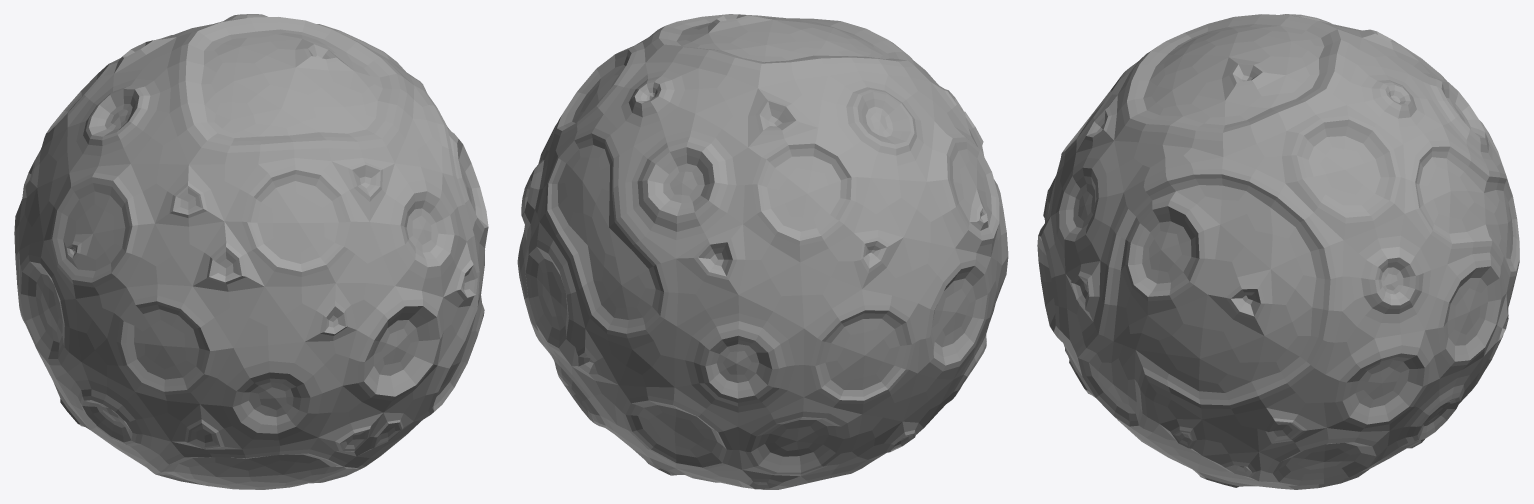
3 renders of one model, left to right at view 1: azimuth 30°, elevation 25°; view 2: azimuth 150°, elevation 25°; view 3: azimuth 270°, elevation 25°, orthographic.
Parts seen in each view (by area): view 1: 1226 Moon; view 2: 1226 Moon; view 3: 1226 Moon.
Part boxes in pixels (<box>): 1226 Moon: <box>14,14,488,489</box>; 1226 Moon: <box>517,14,1008,489</box>; 1226 Moon: <box>1037,14,1519,489</box>.
Bounding box in the file's own units: 74.23 × 73.97 × 75.95.
Materials: 1 (1 with a texture image).
